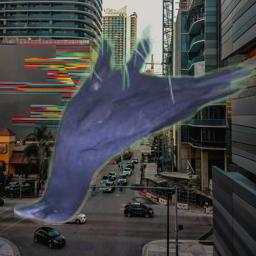Crow: (14, 19, 256, 225)
